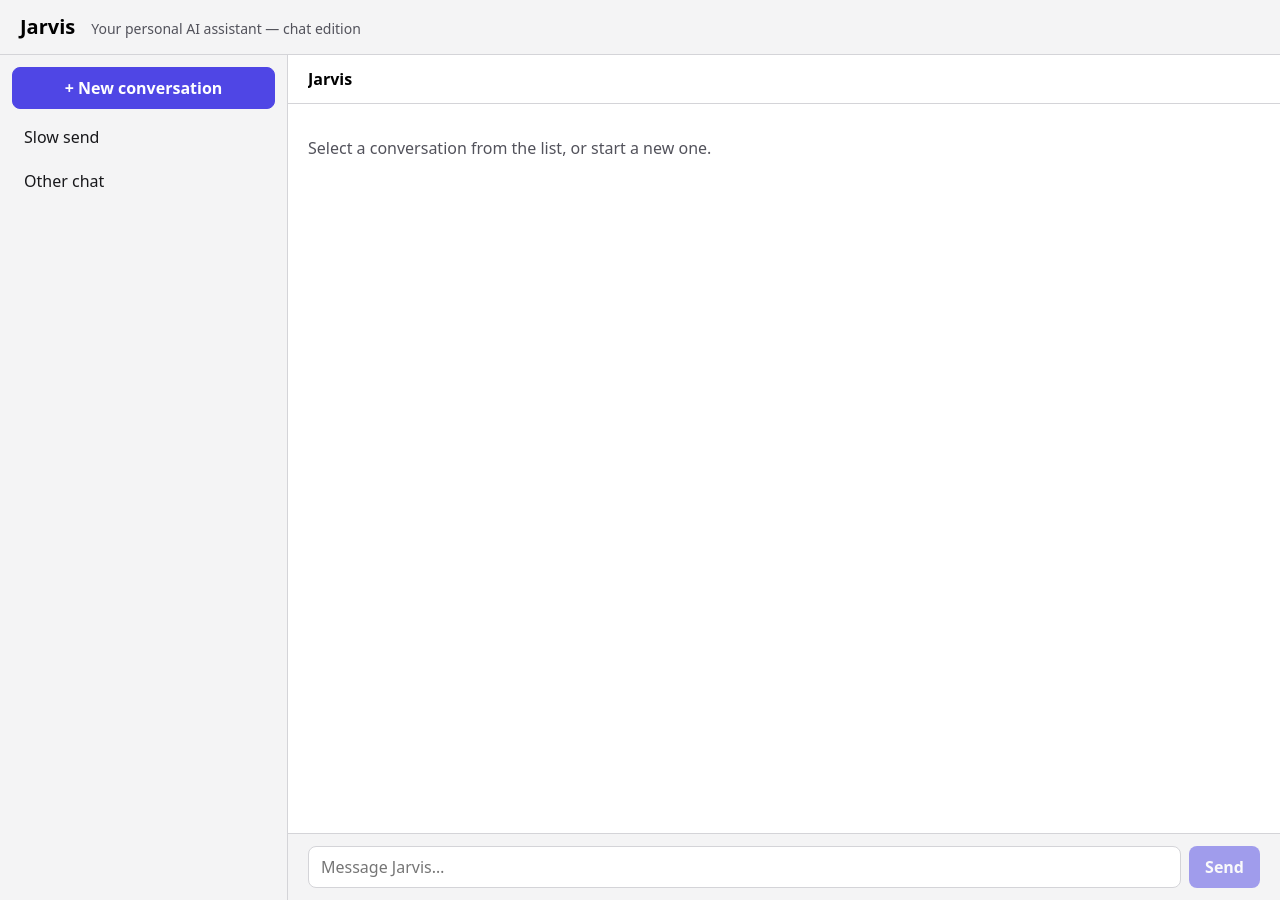
Scenario: sending messages › renders the conversation the user switched to while a send was in flight
Click the button "Slow send".
click(62, 137)  # box left=12, top=117, right=275, bottom=157
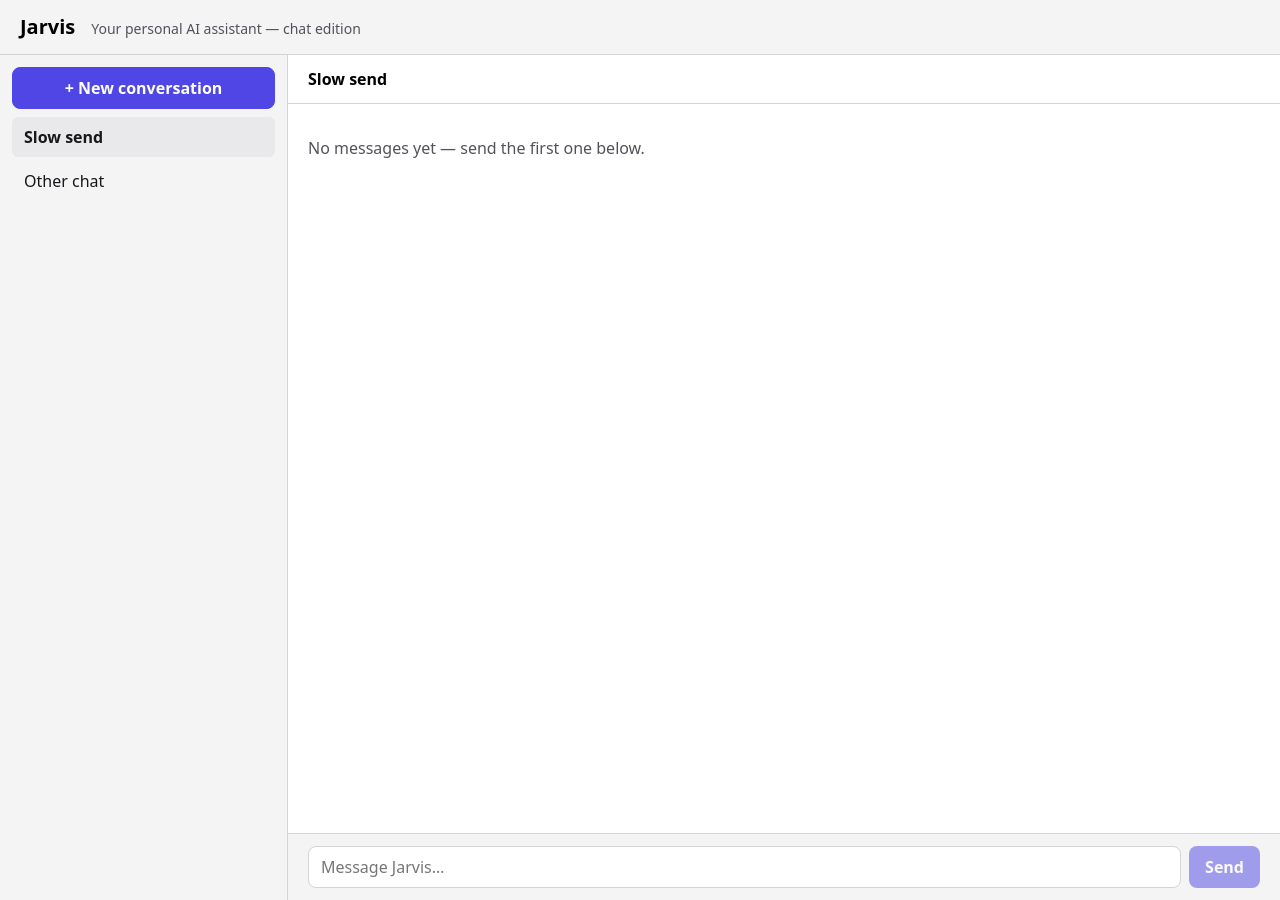
Check: the text "No messages yet — send the first one below." is shown, box left=308, top=137, right=645, bottom=159
Type "in-flight message" into the text box labelled "Message Jarvis".
click(745, 867); type("in-flight message")  # box left=308, top=846, right=1181, bottom=888
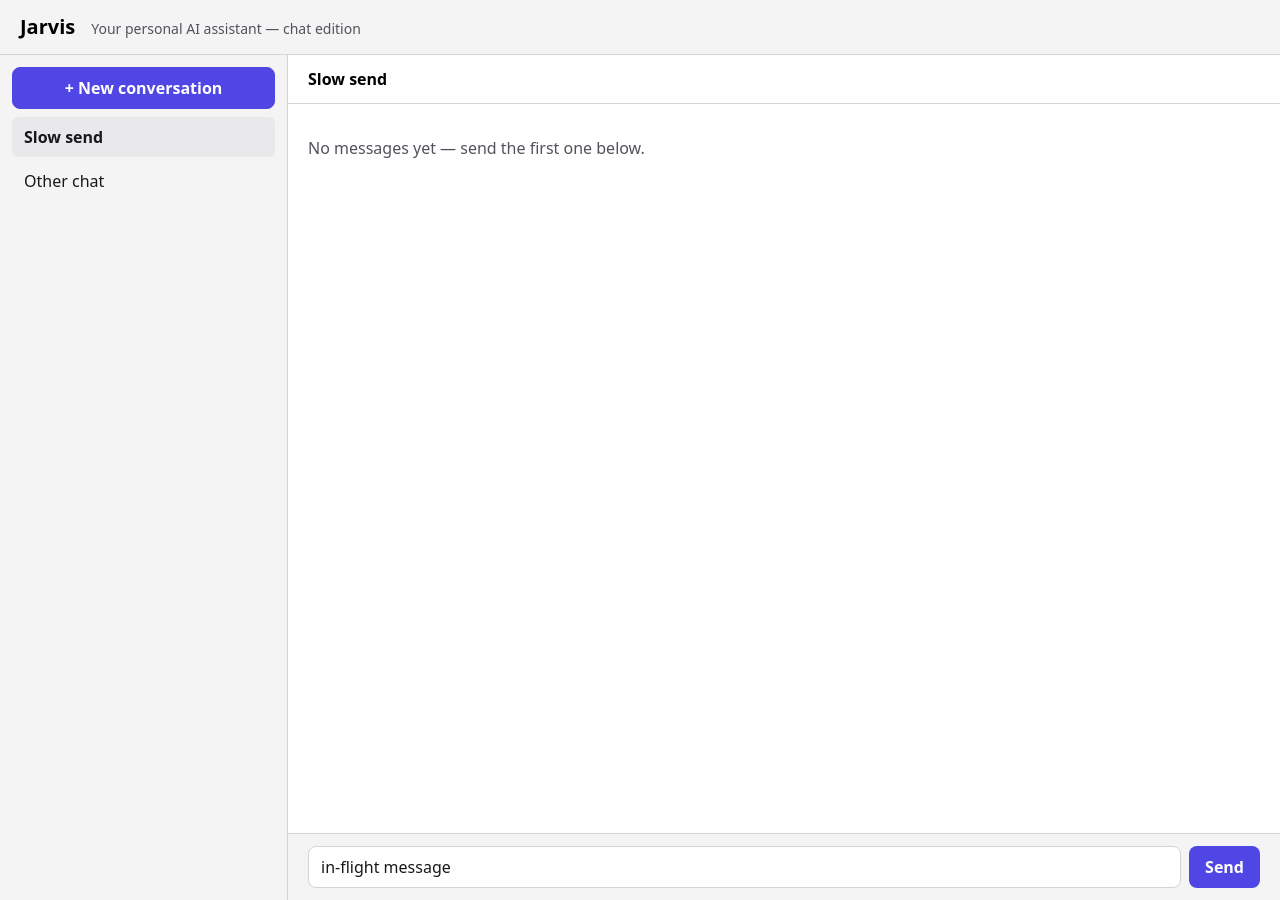
Click the button "Send".
click(1225, 867)  # box left=1189, top=846, right=1260, bottom=888
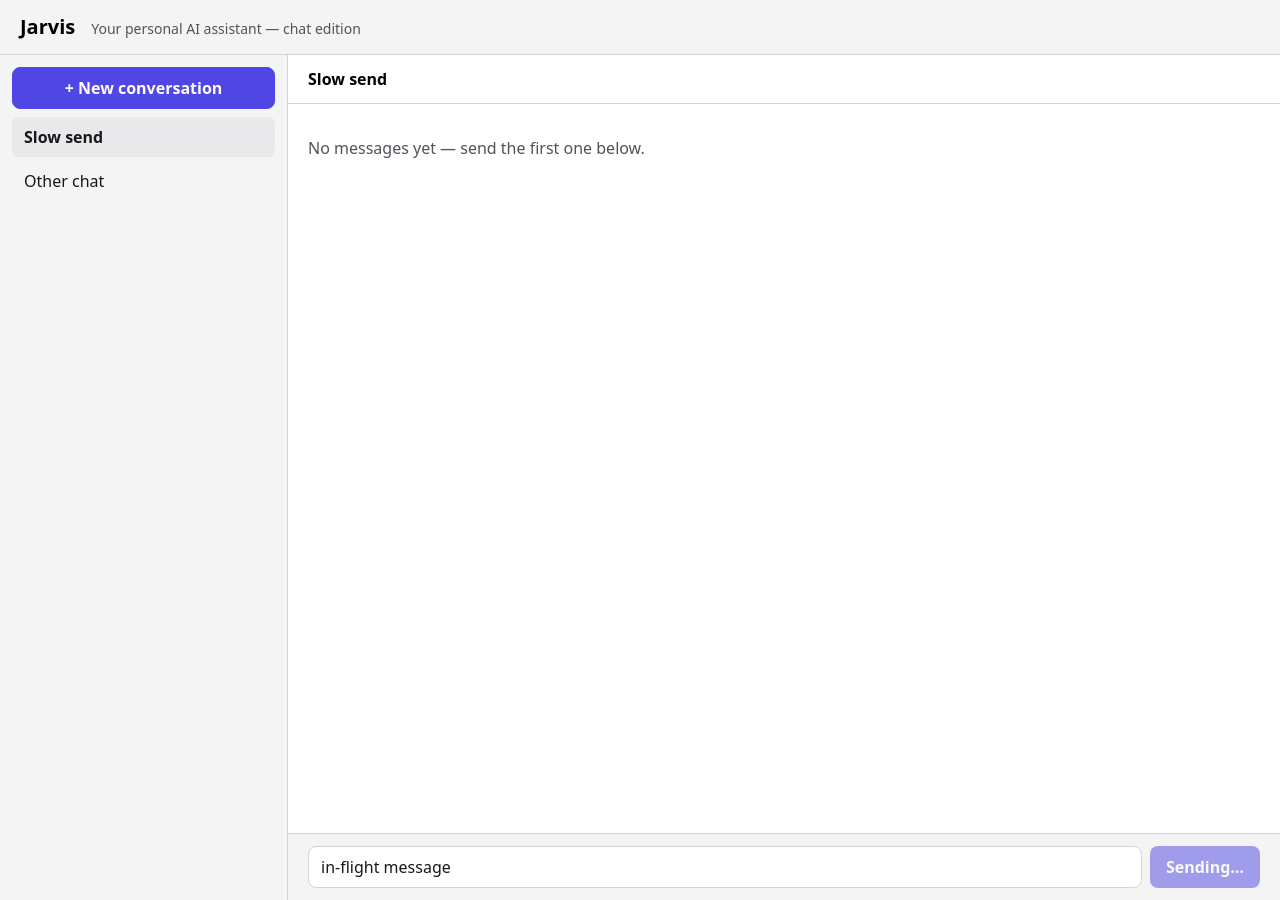
Note: User navigates to another conversation while the send hangs.
Click the button "Other chat".
click(64, 181)  # box left=12, top=161, right=275, bottom=201
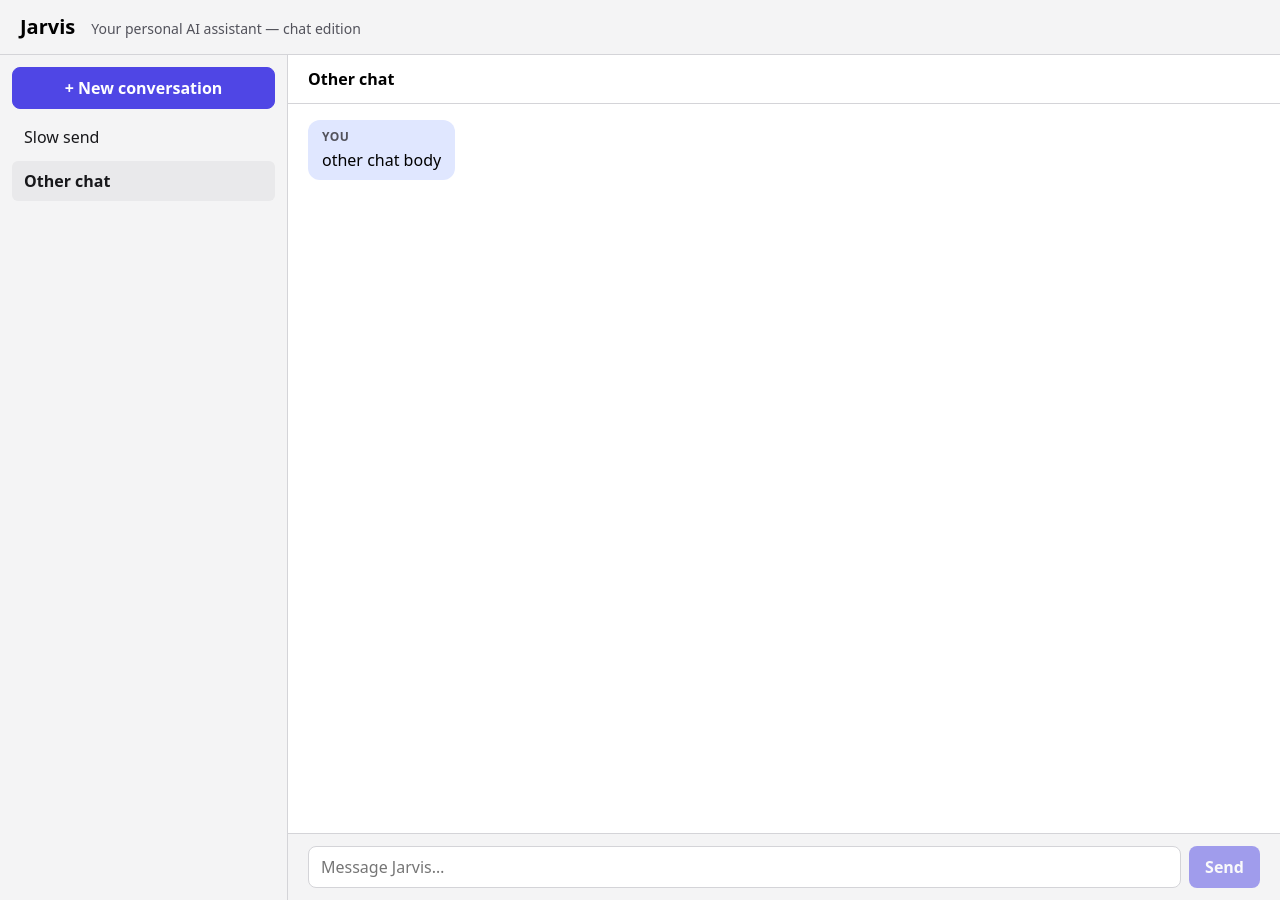
Check: the text "in-flight message" is not shown
Check: the text box labelled "Message Jarvis" is empty, box left=308, top=846, right=1181, bottom=888
Check: the text "other chat body" is shown, box left=322, top=148, right=441, bottom=172
